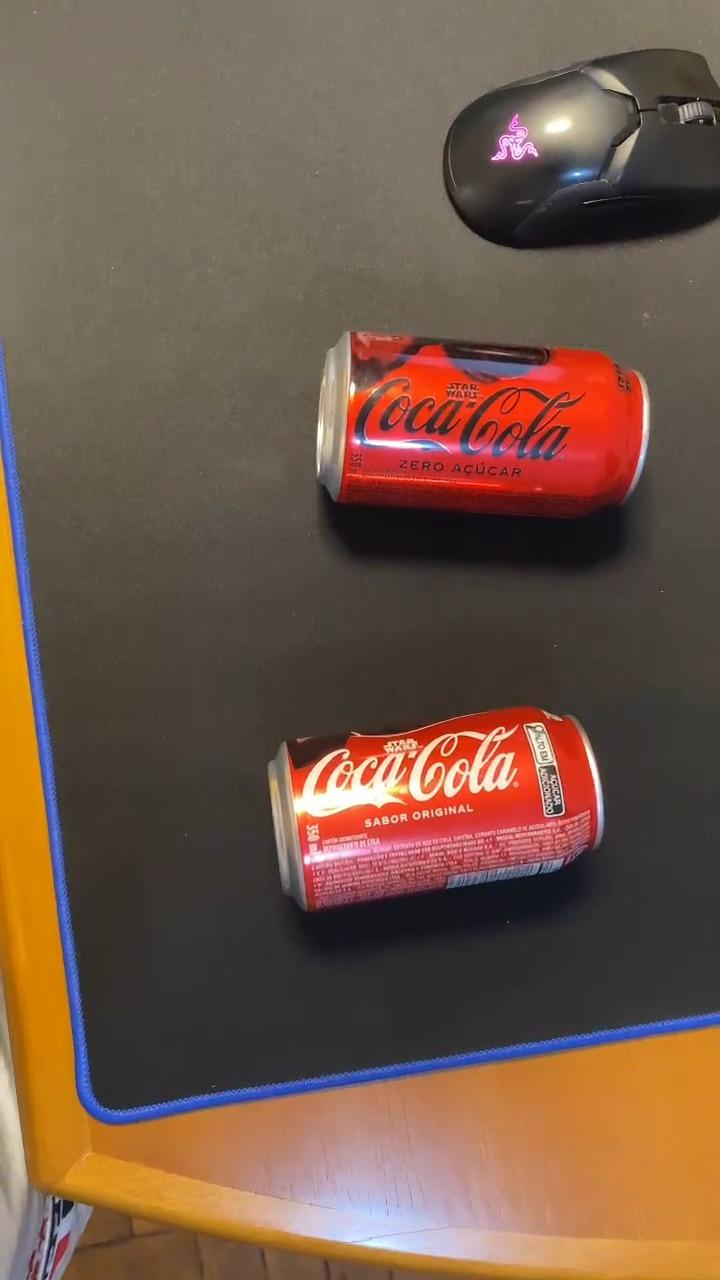coke: (269, 705, 611, 911), (311, 331, 655, 519)
